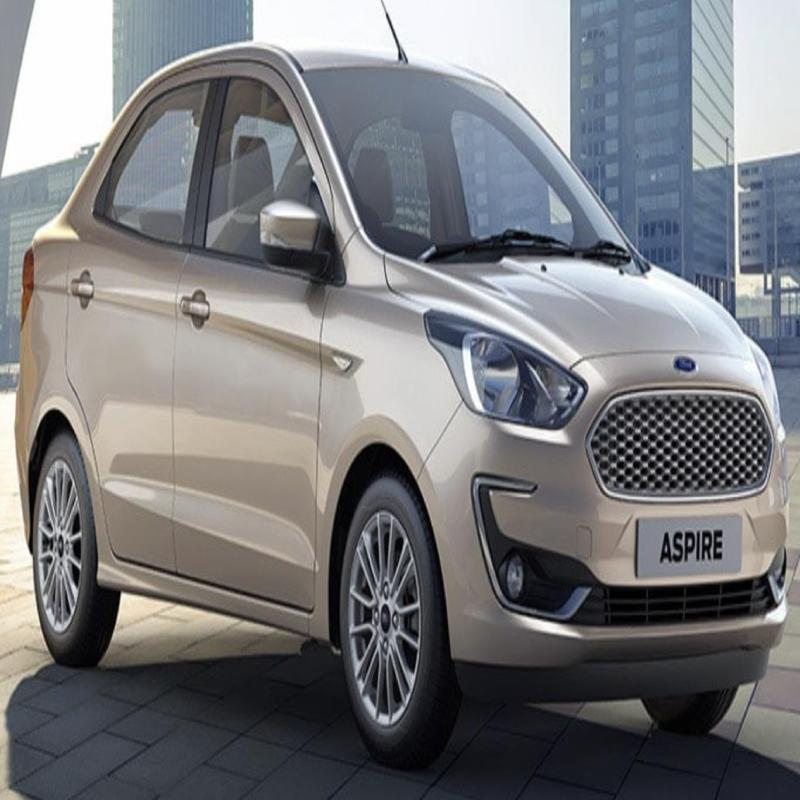car: (0, 27, 794, 768)
